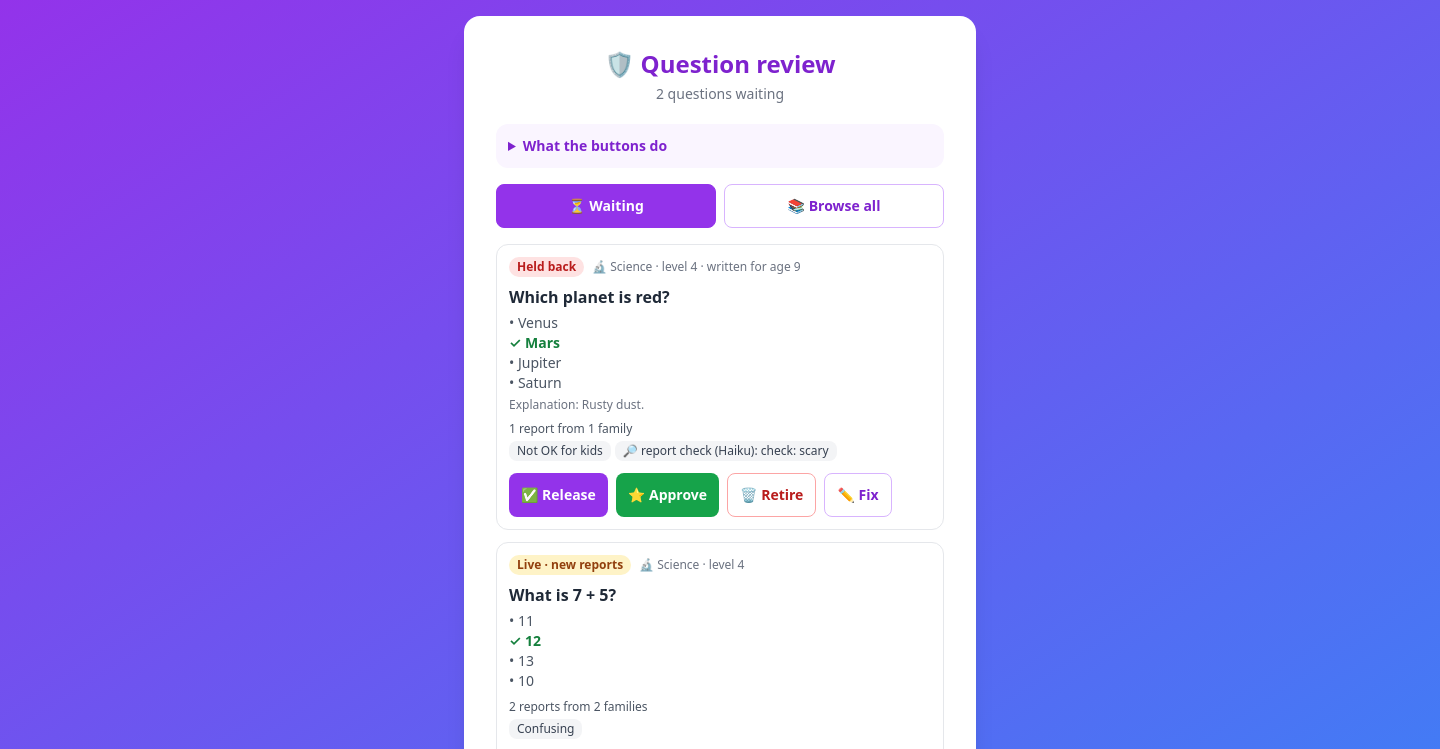
Test: QuestionReviewPage (#147) › a decision that fails stays on the card, in plain words — the raw error goes to the console (#130 S6)
Check: the text "2 questions waiting" is shown, box 656,84 -> 784,103
Click the button "✅ Release" below "Held back" at (558, 495), box 509,473 -> 608,517
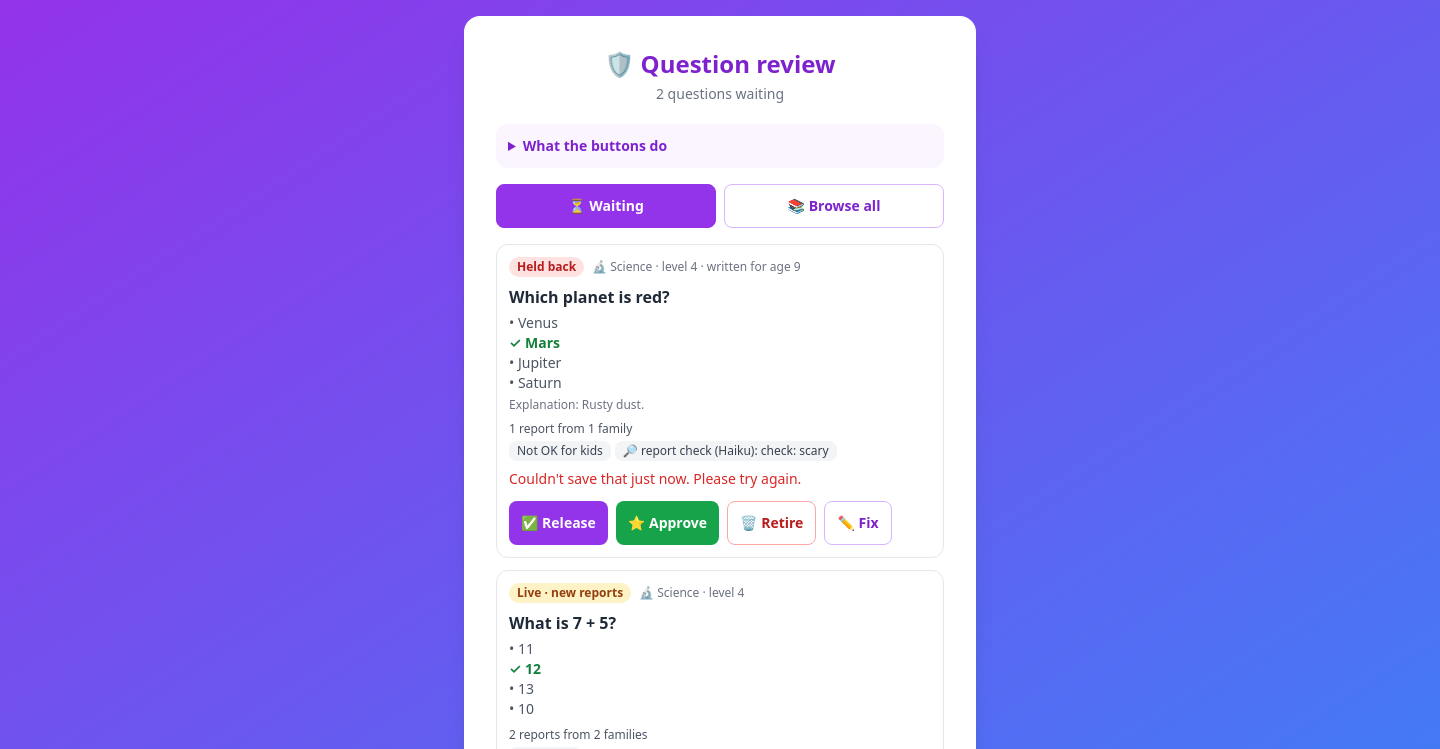
Check: the text "2 questions waiting" is shown, box 656,84 -> 784,103
Check: the text "Couldn't save that just now. Please try again." is shown, box 509,469 -> 801,488
